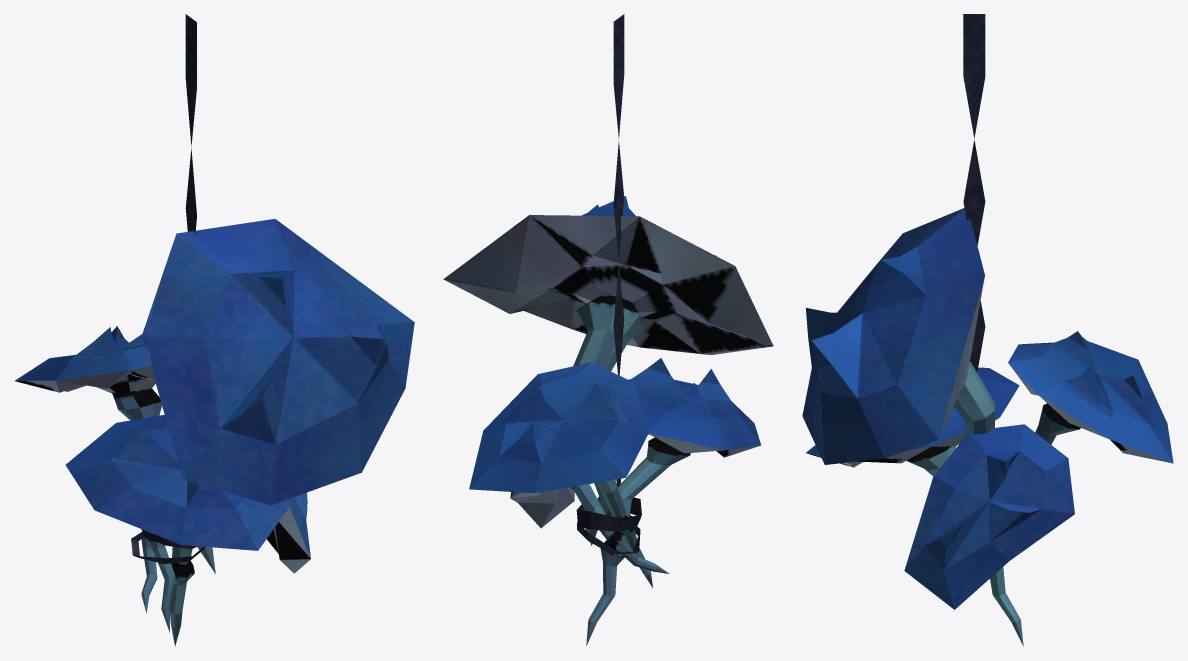
Rendered from 0swing.fbx_loonshaleswing.fbx.
The picture shows the model from 3 angles, left to right: view 1: azimuth 30°, elevation 25°; view 2: azimuth 150°, elevation 25°; view 3: azimuth 270°, elevation 25°; orthographic projection. The views are drawn at different scales.
Parts seen in each view (by area): view 1: Itemloonshale, Objectloonshale; view 2: Objectloonshale, Itemloonshale; view 3: Objectloonshale, Itemloonshale.
Part boxes in pixels (x1=…): Itemloonshale: x1=142, y1=219, x2=414, y2=573; Objectloonshale: x1=15, y1=14, x2=310, y2=646; Objectloonshale: x1=469, y1=14, x2=761, y2=645; Itemloonshale: x1=443, y1=196, x2=773, y2=545; Objectloonshale: x1=806, y1=14, x2=1173, y2=646; Itemloonshale: x1=802, y1=208, x2=995, y2=464.
Bounding box in the file's own units: 206 × 390 × 209.
